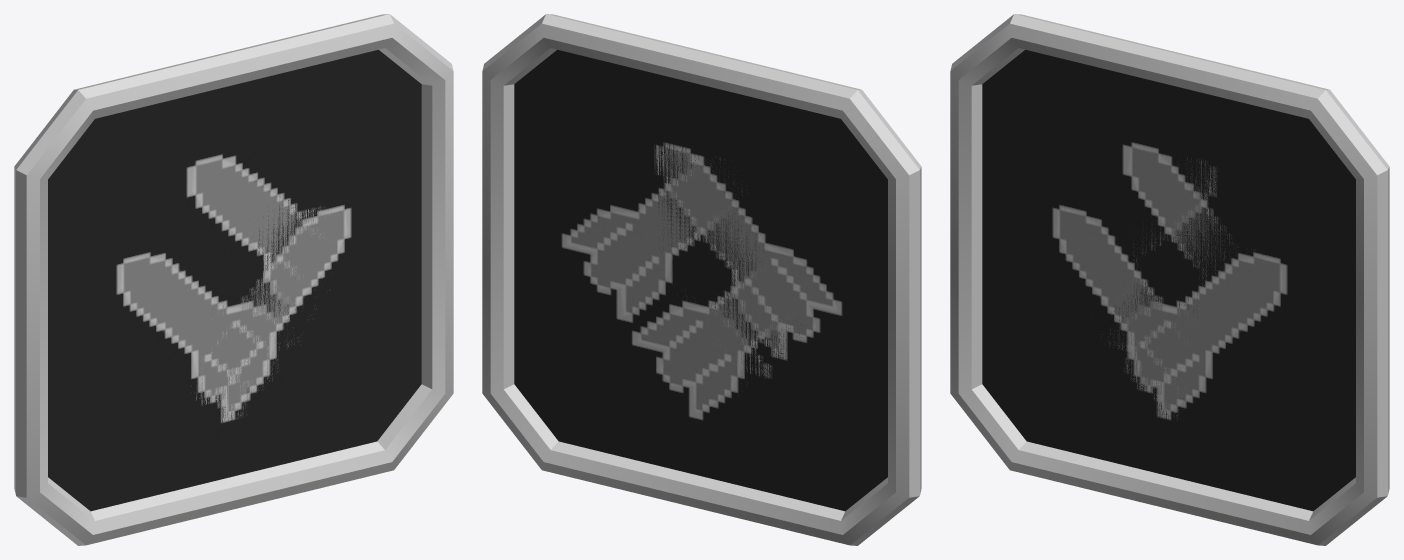
Rendered from MissleBonus.FBX.
3 views of the same model, side by side, from view 1: azimuth 30°, elevation 25°; view 2: azimuth 150°, elevation 25°; view 3: azimuth 330°, elevation 25° (orthographic).
Visible parts, largest first — view 1: Rectangle001; view 2: Rectangle001; view 3: Rectangle001.
Part boxes in pixels (x1,y1,x2,y2): Rectangle001: (14,14,453,545); Rectangle001: (482,14,921,545); Rectangle001: (950,14,1389,545).
Bounding box in the file's own units: 107 × 7.44 × 107.
